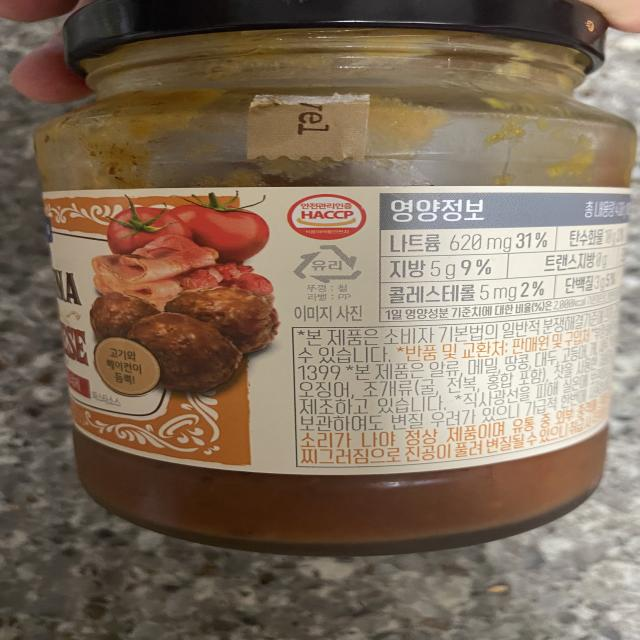Glass: (292, 242, 362, 286)
